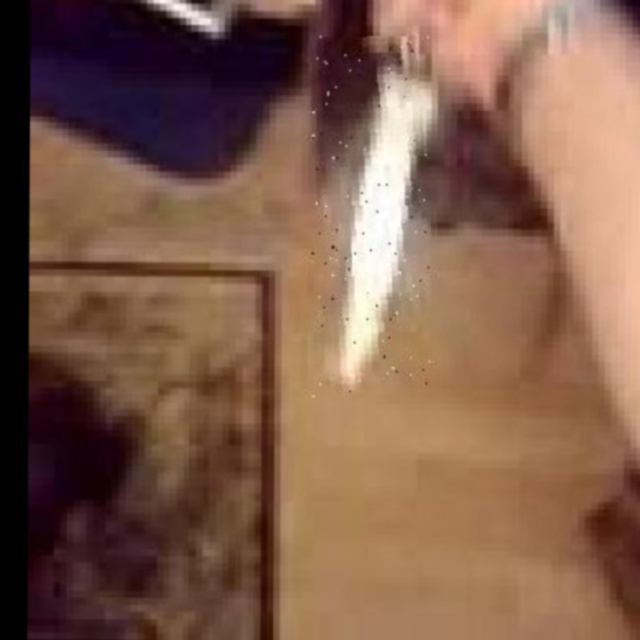Sharp-Object: (312, 36, 432, 398)
